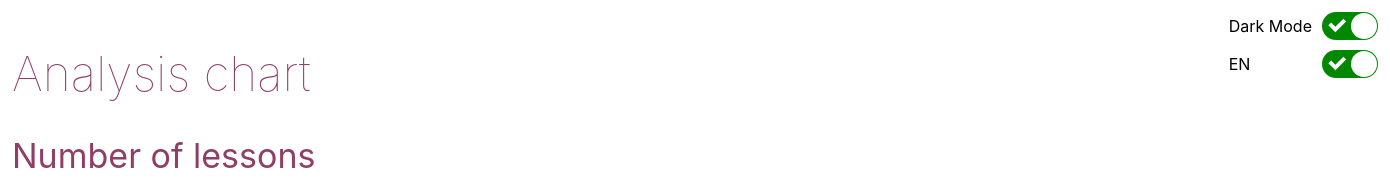
Test: Header Component › switch language change
Click the switch with test id "changeLang": (1350, 64) [1229,50,1378,78]
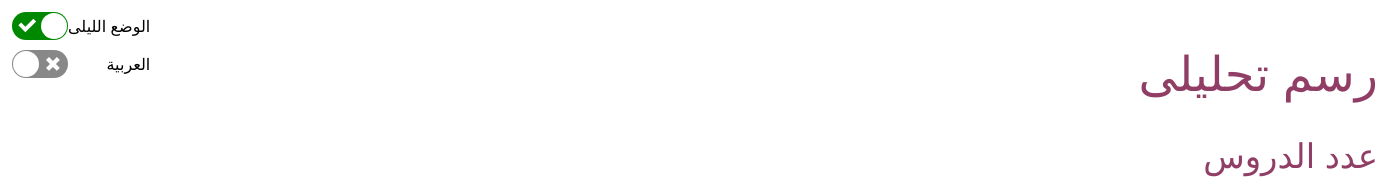
Expected: the text "العربية" is shown, [106,54,150,74]
